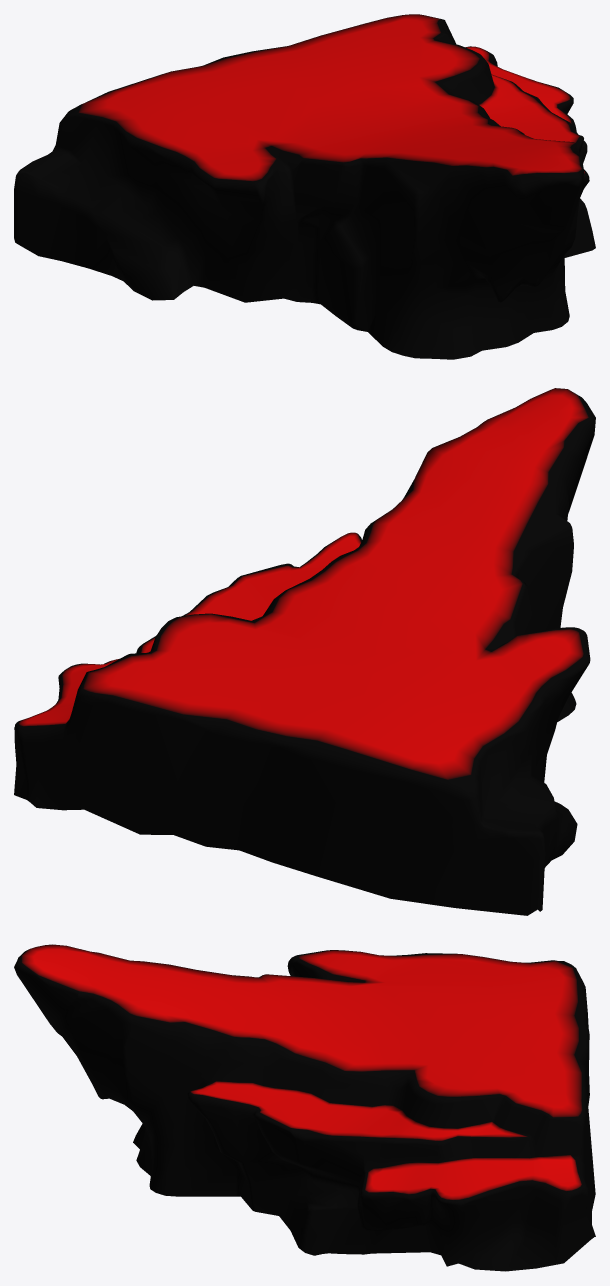
Rendered from Shitou_hill_07.fbx.
The picture shows the model from 3 angles, top to bottom: view 1: azimuth 30°, elevation 25°; view 2: azimuth 150°, elevation 25°; view 3: azimuth 270°, elevation 25°; orthographic projection. The views are drawn at different scales.
Parts seen in each view (by area): view 1: Shitou_hill_07_LOD0; view 2: Shitou_hill_07_LOD0; view 3: Shitou_hill_07_LOD0.
Boxes of the visible parts, x1,y1,x2,y2 form: Shitou_hill_07_LOD0: (14,14,595,359); Shitou_hill_07_LOD0: (14,388,595,915); Shitou_hill_07_LOD0: (14,944,595,1271).
Size of the model in its own units: 733 by 325 by 793.
